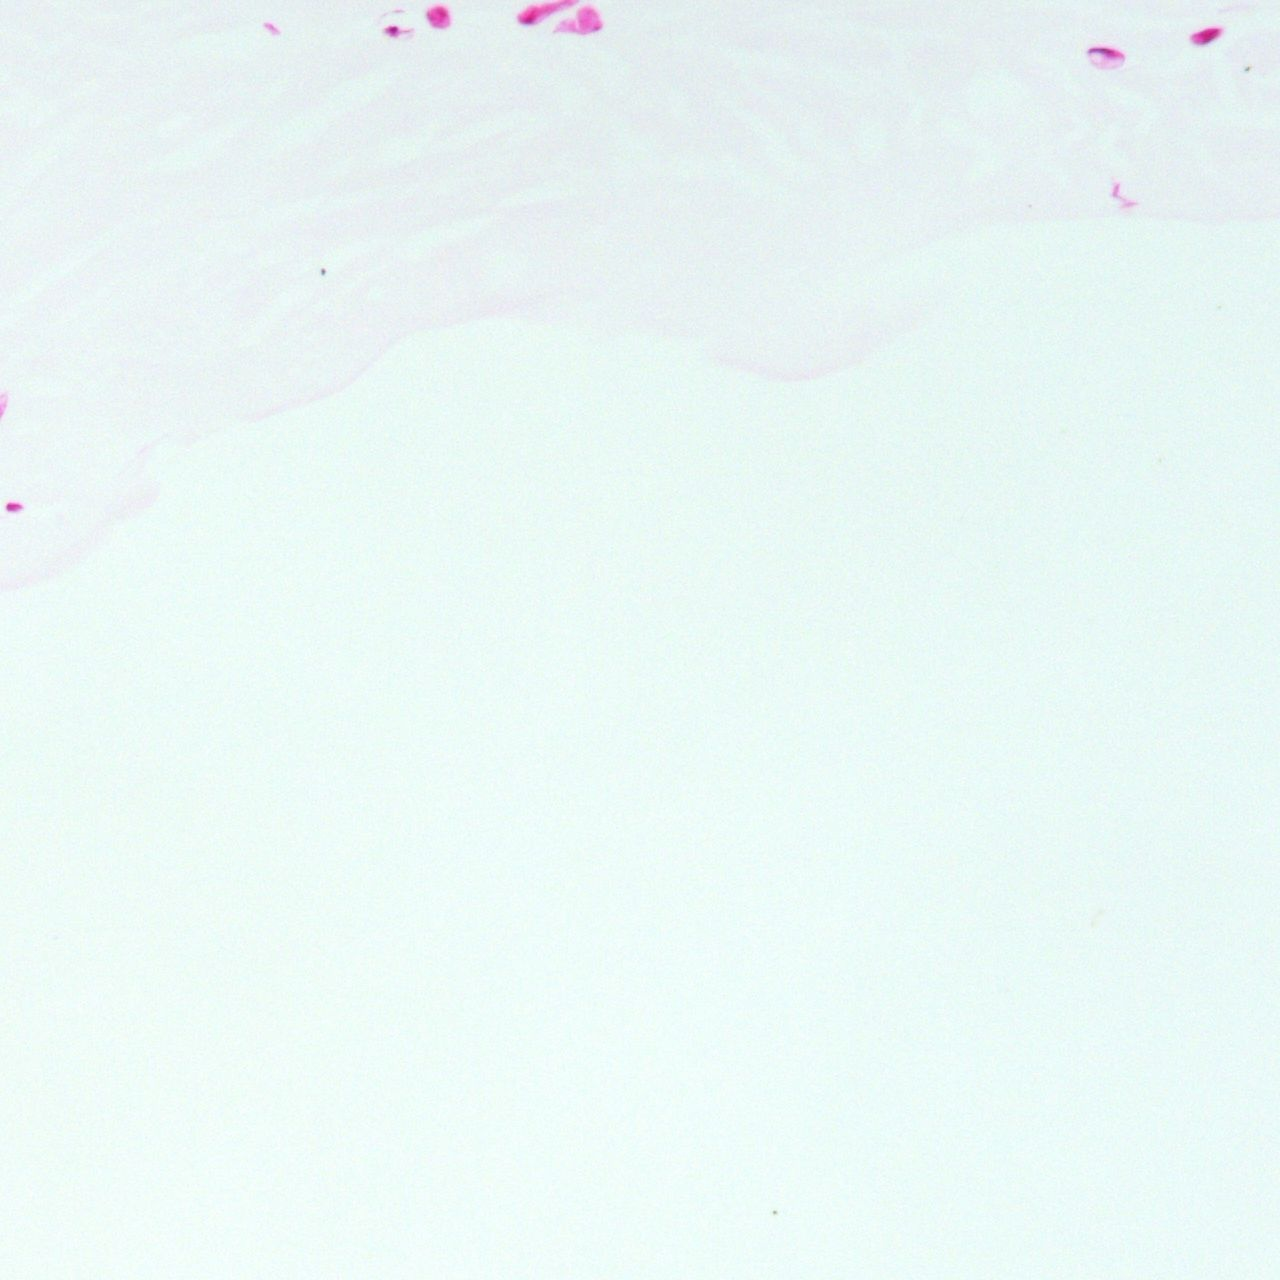dust: (321, 267, 326, 275)
nucleus-FG: (1187, 21, 1223, 48), (1088, 46, 1125, 69), (386, 25, 399, 35), (7, 503, 21, 510)
